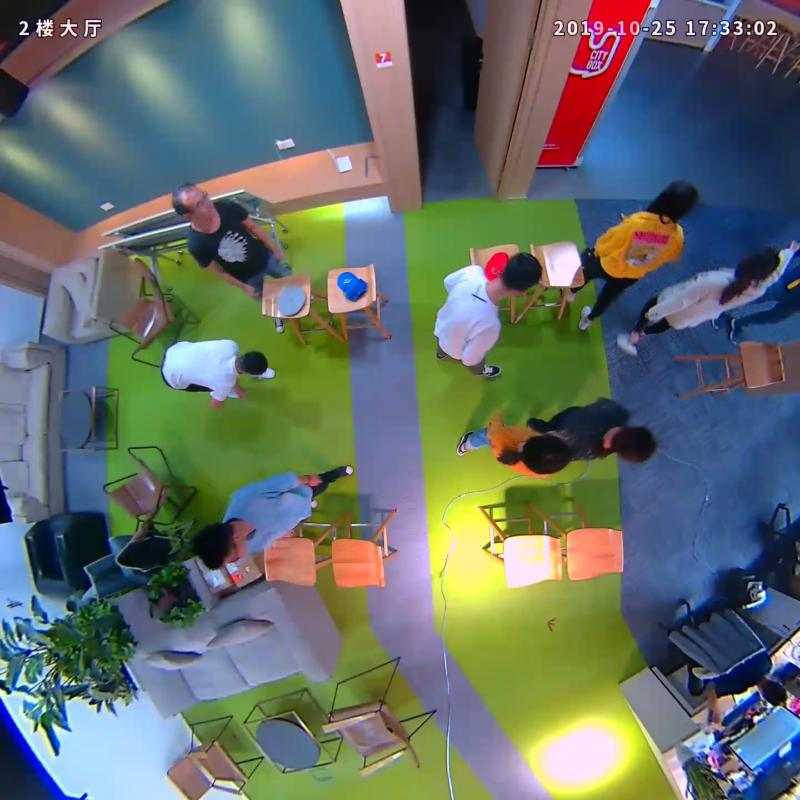head: (183, 517, 243, 574), (487, 248, 546, 304), (645, 174, 707, 226), (514, 429, 573, 482), (603, 420, 663, 469), (726, 237, 781, 290), (162, 180, 222, 226), (233, 345, 276, 382)
